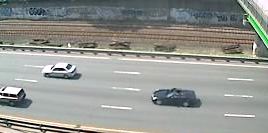car: (149, 85, 197, 109), (38, 60, 80, 82)
